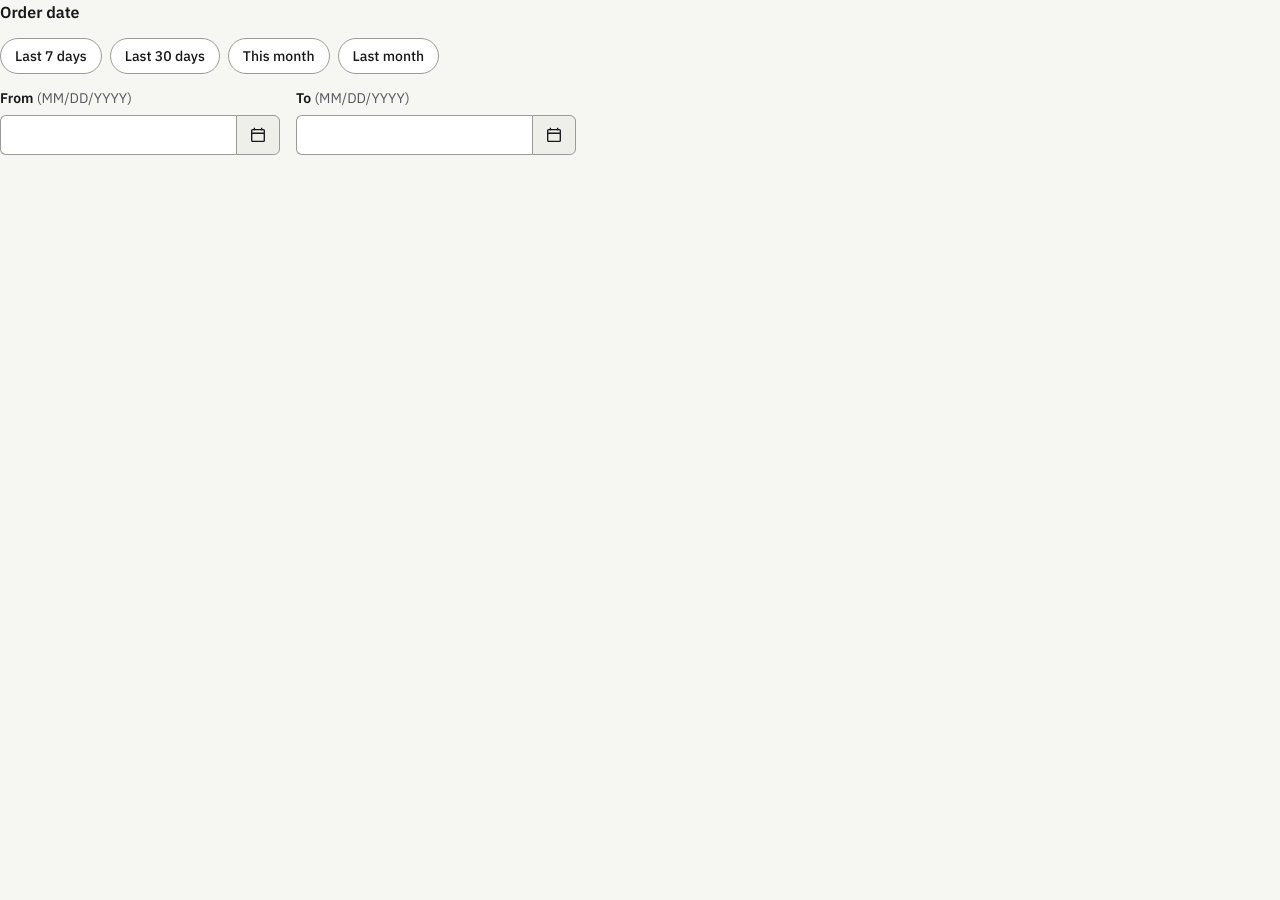
Test: DateRangeInput › keeps focus inside the dialog, closes on Escape, and blocks out-of-bounds days (edge case)
Click the button named "Choose from" at (258, 135), box left=236, top=115, right=280, bottom=155
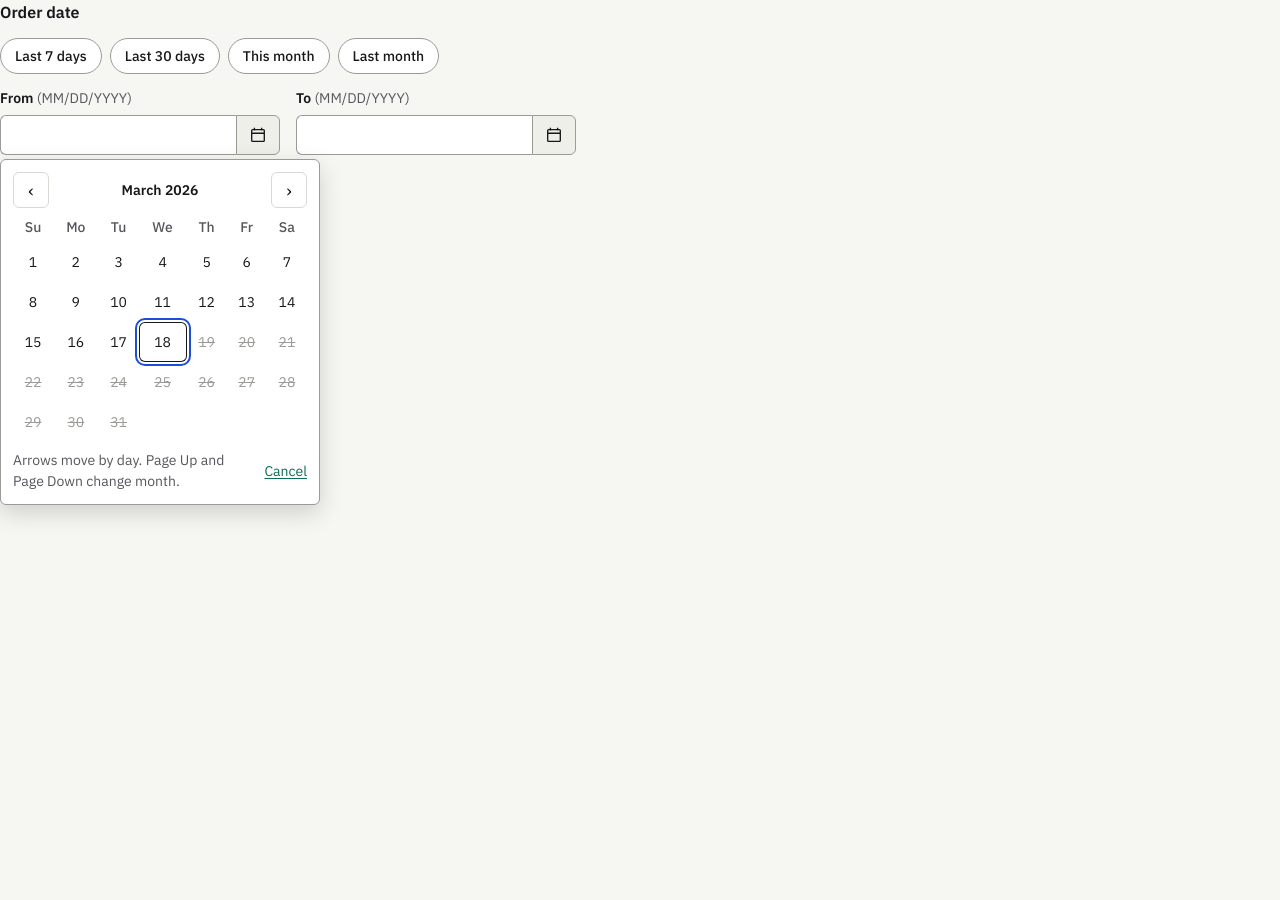
Press Arrowright
Press Tab
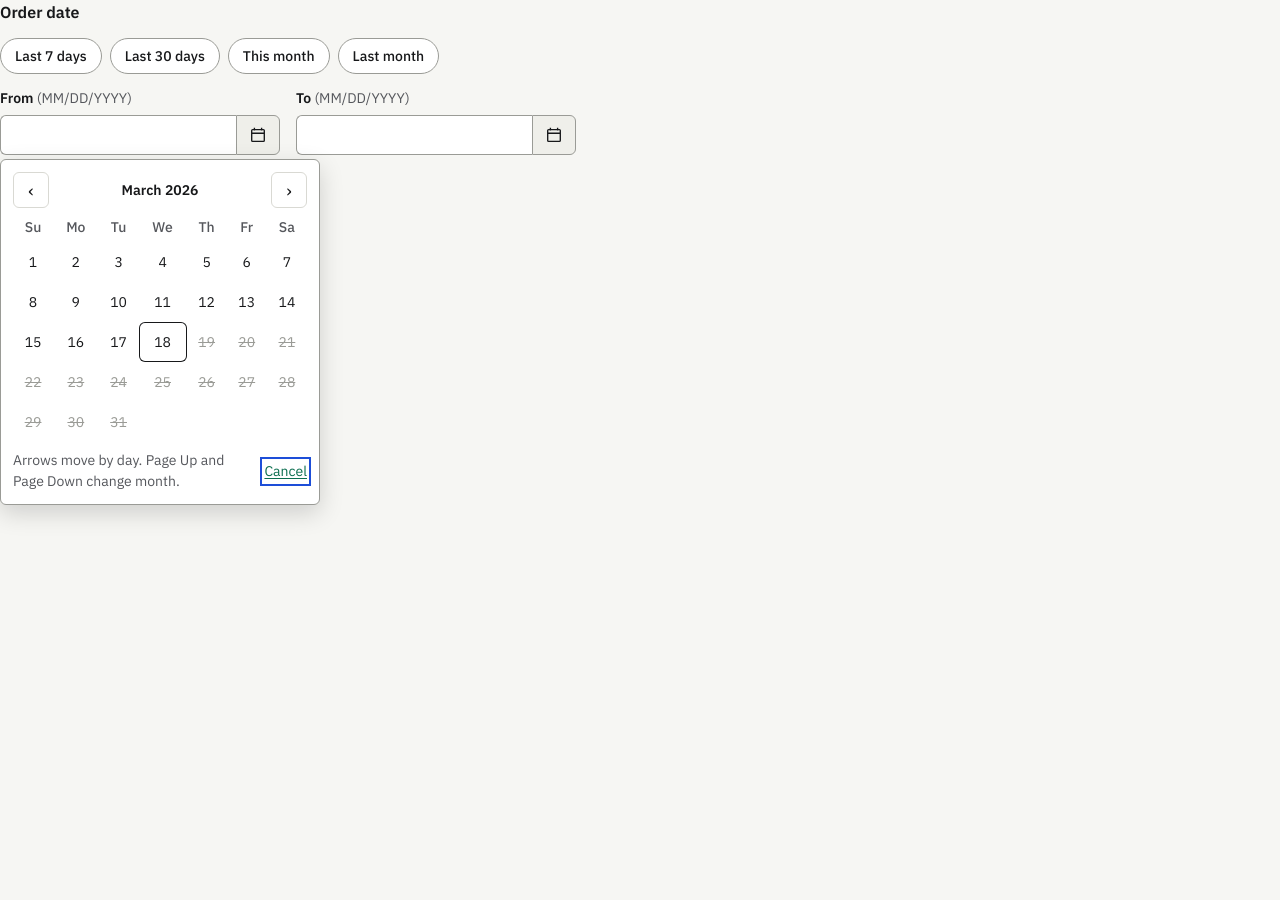
Press Tab
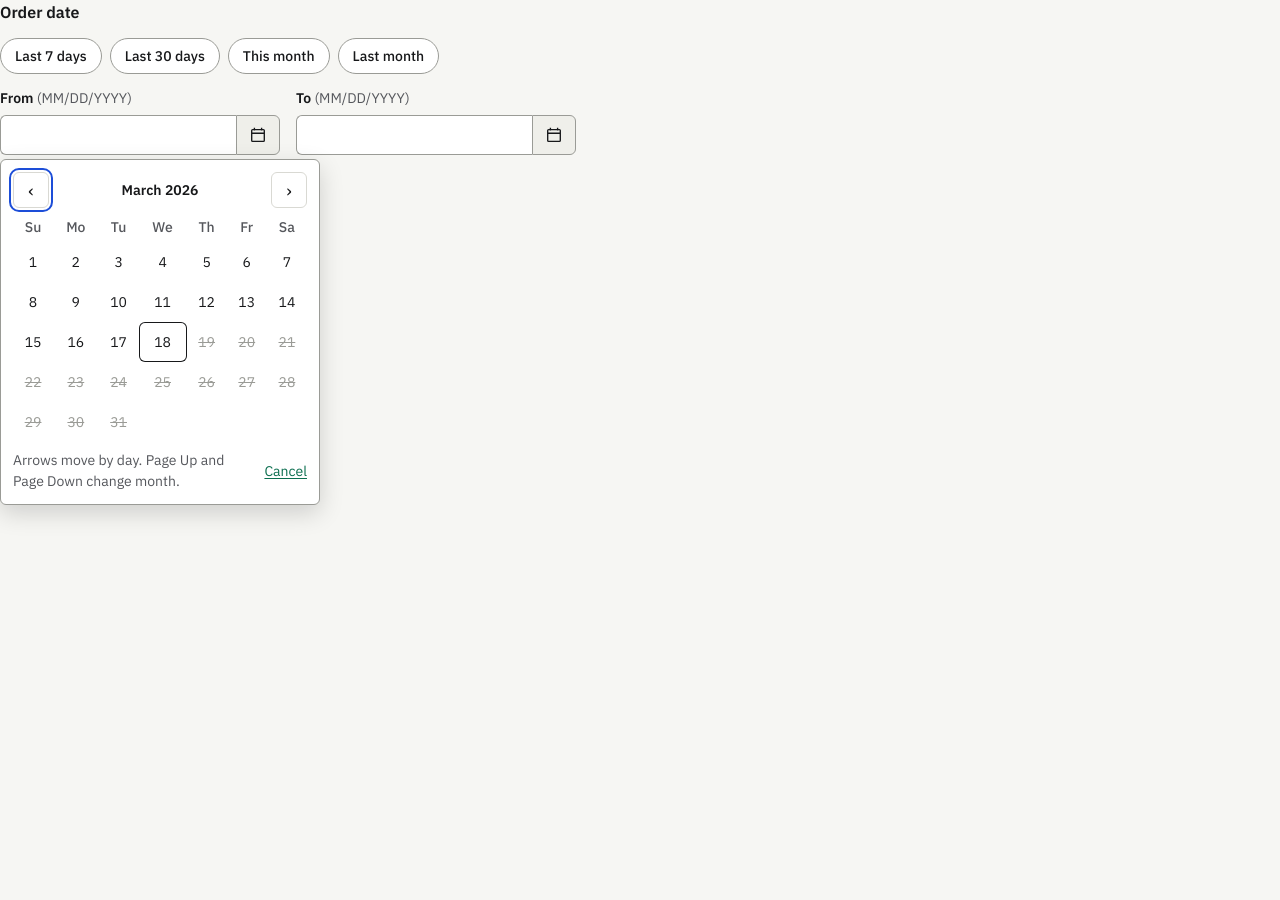
Click the cell named "Thursday, March 19, 2026" at (207, 342), box left=187, top=322, right=227, bottom=362
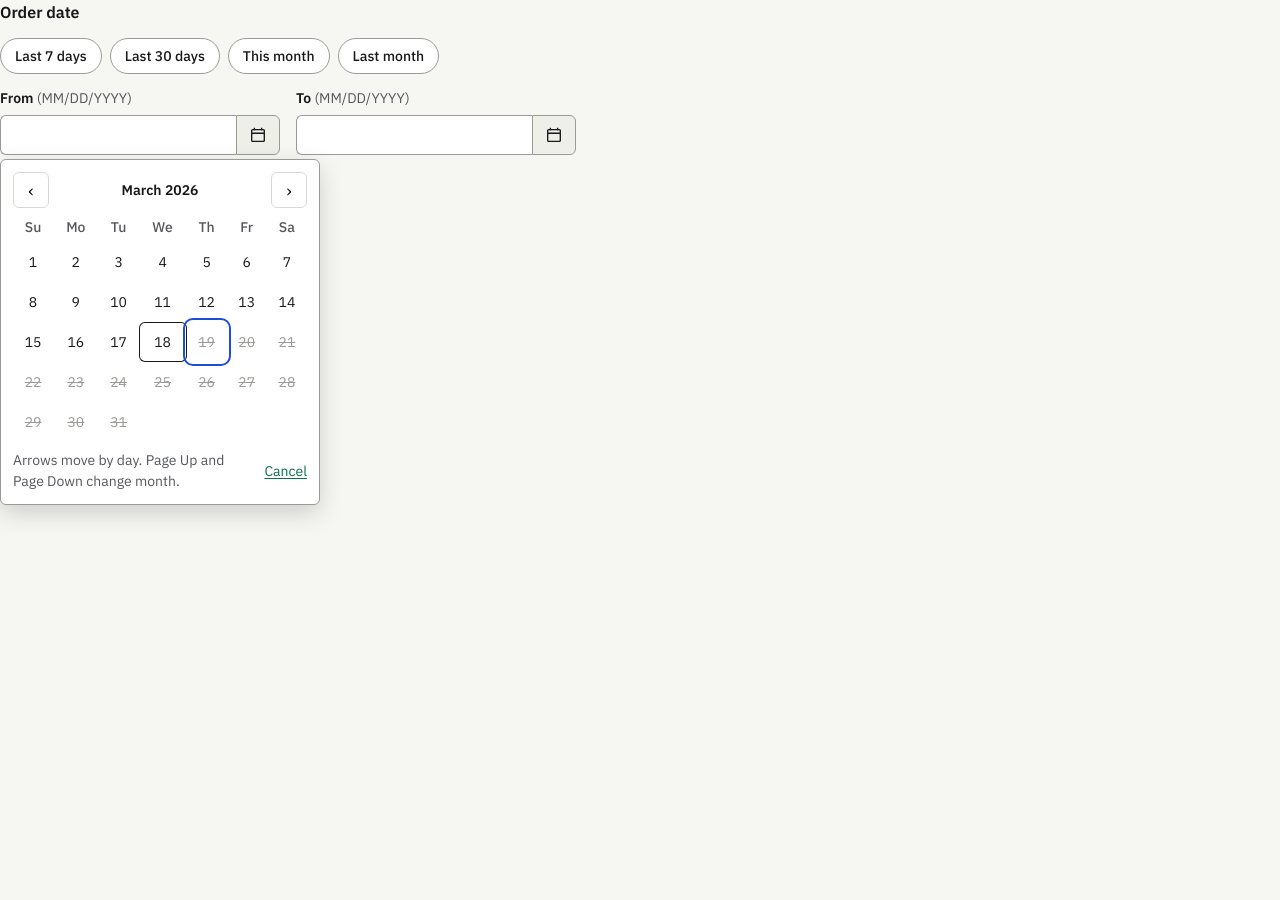
Press Escape
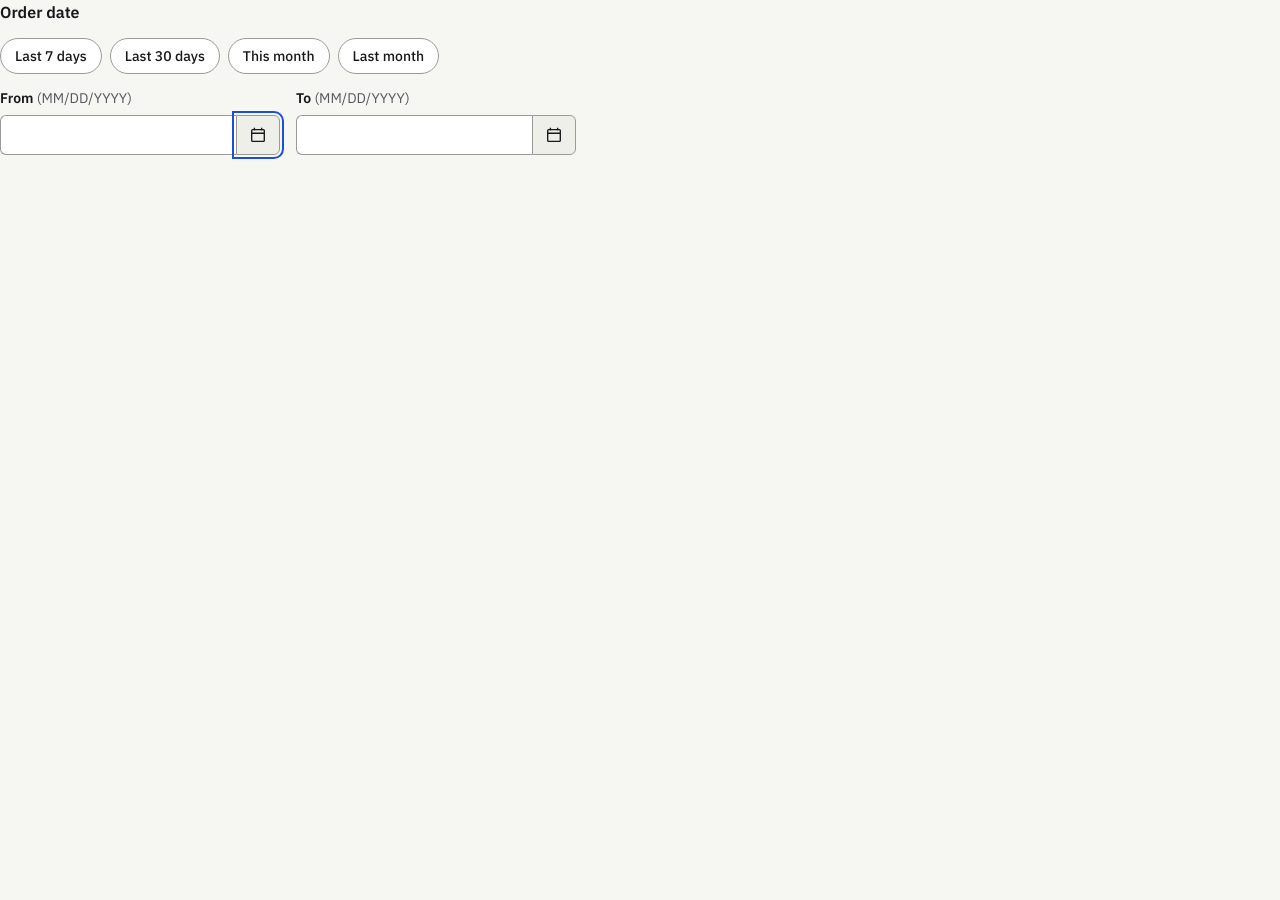
Expected: the dialog is gone
